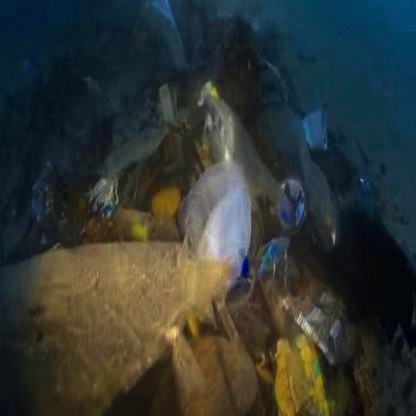can: (271, 176, 314, 232)
plastic: (193, 167, 278, 283)
